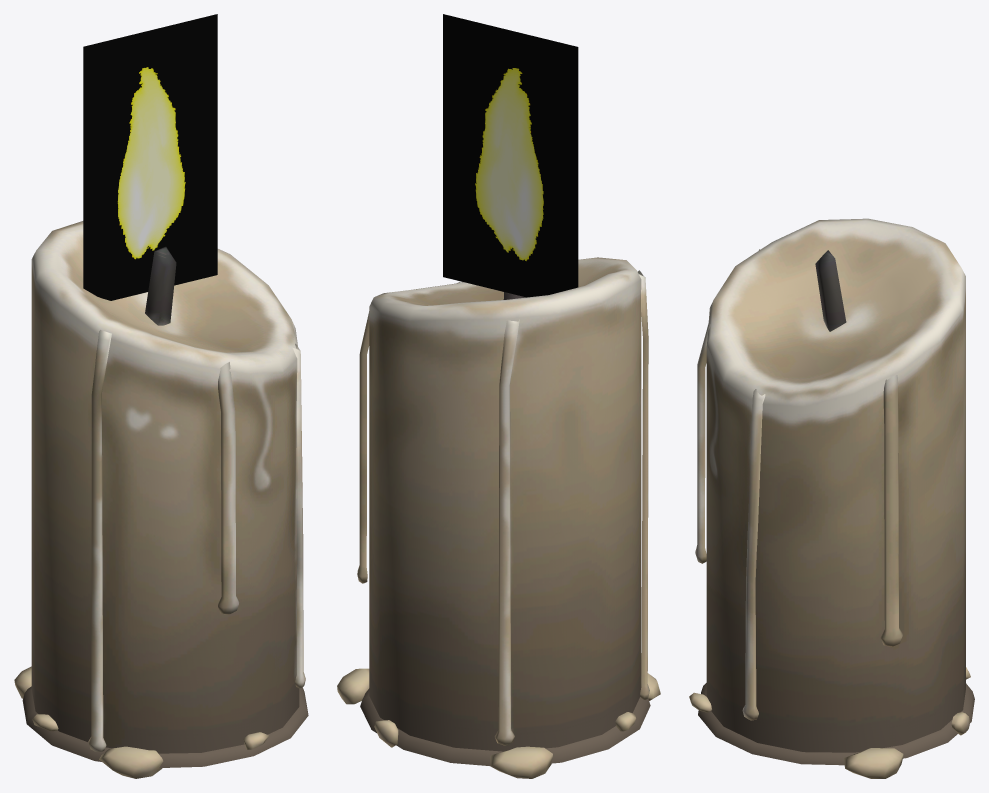
File: SM_Candle_02.gltf
3 renders of one model, left to right at view 1: azimuth 30°, elevation 25°; view 2: azimuth 150°, elevation 25°; view 3: azimuth 270°, elevation 25°, orthographic. The views are drawn at different scales.
Parts seen in each view (by area): view 1: SM_Candle_02; view 2: SM_Candle_02; view 3: SM_Candle_02.
Part boxes in pixels (x1,y1,x2,y2): SM_Candle_02: [14, 14, 308, 778]; SM_Candle_02: [337, 14, 660, 778]; SM_Candle_02: [689, 218, 974, 778].
Bounding box in the file's own units: 0.0783 × 0.1871 × 0.0731.
Materials: 2 (2 with a texture image).
